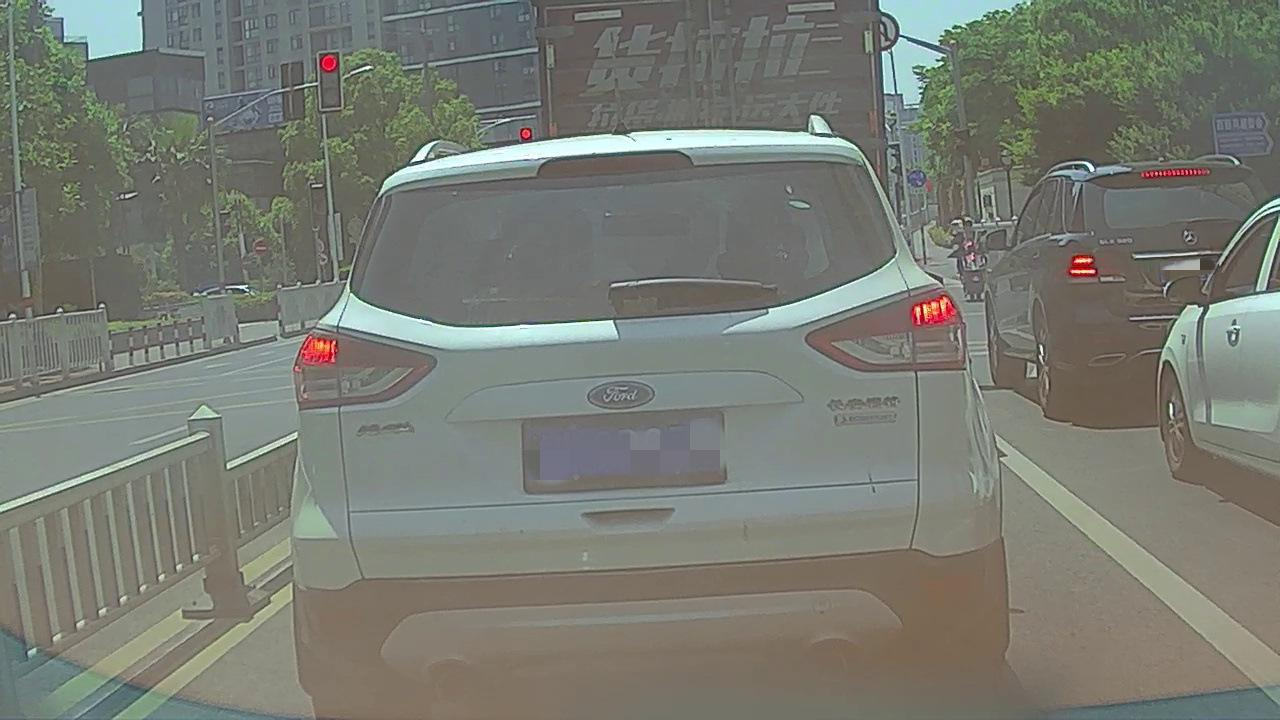traffic_light: (318, 52, 341, 109)
